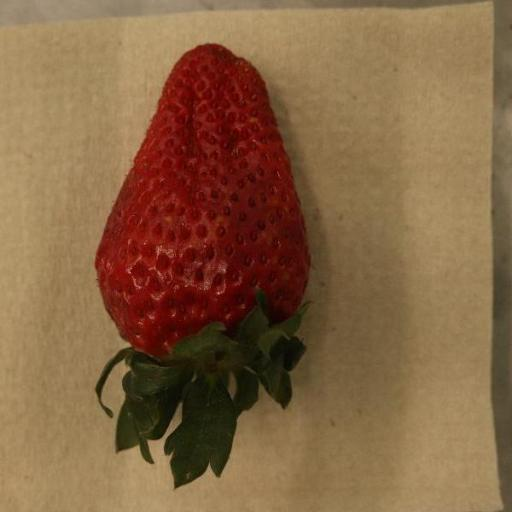Strawberry: (96, 44, 313, 491)
